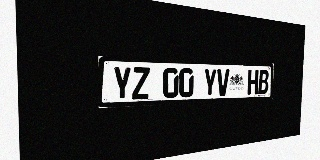0: (163, 68, 179, 98), (179, 68, 194, 98)
B: (258, 70, 269, 94)
H: (247, 70, 259, 95)
V: (216, 69, 229, 96)
Y: (112, 66, 131, 100), (203, 69, 217, 97)
Z: (132, 67, 150, 100)
